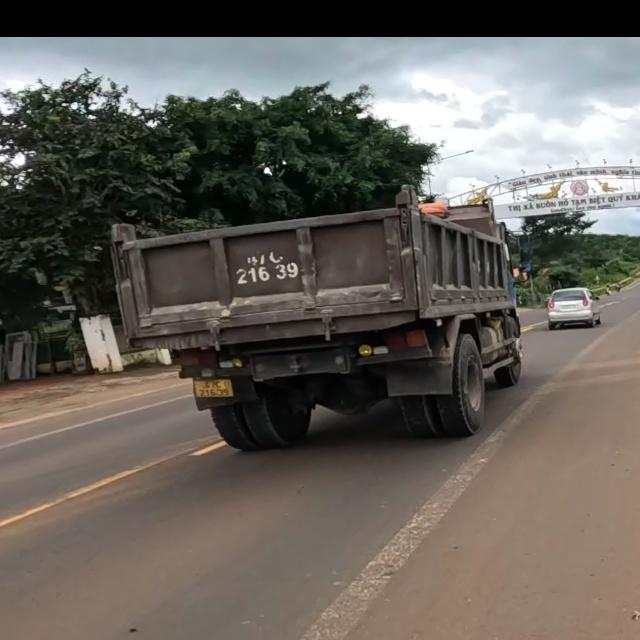license-plate: (193, 377, 235, 399)
